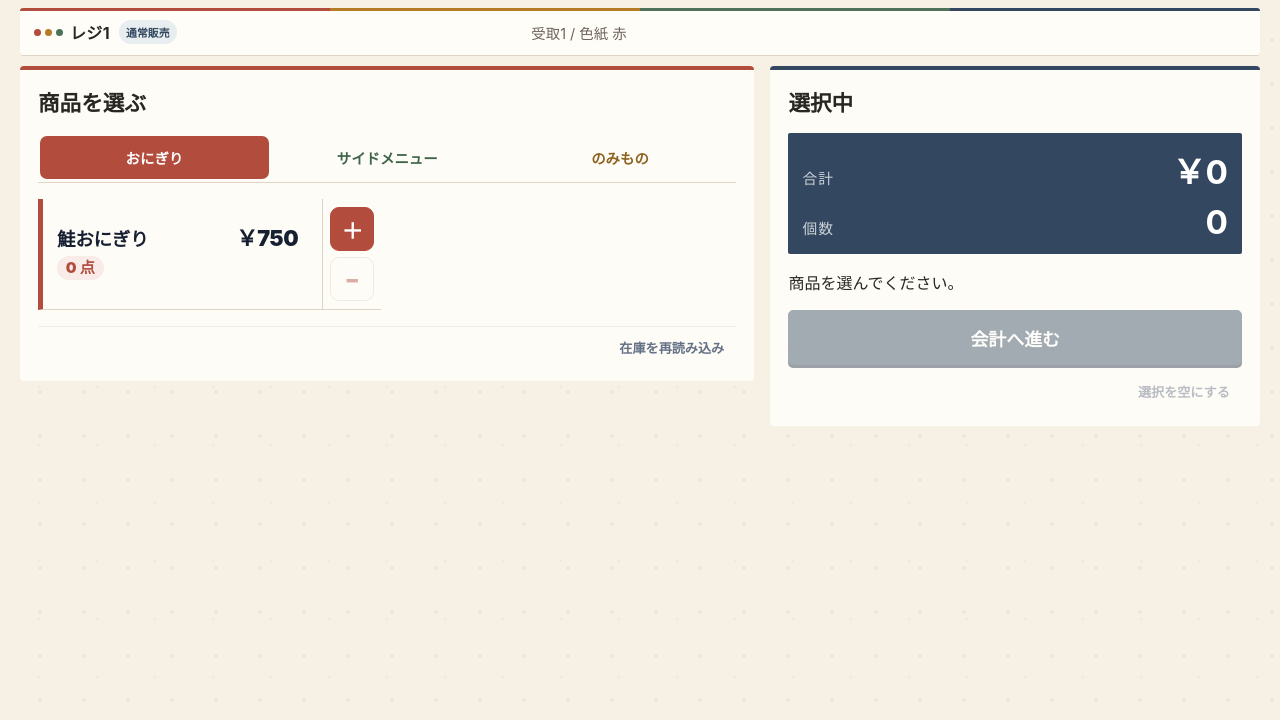
Scenario: RegisterPage › 預かり不足中は不足額を表示し、確定ボタンを無効にする
Expected: the text "鮭おにぎり" is shown, [57,229,148,250]
What coordinates should you click on to do the following:
click the button with aria-label "鮭おにぎり を 1 個追加する"
I would click on:
 (103, 239)
Its box is [43,199,312,309].
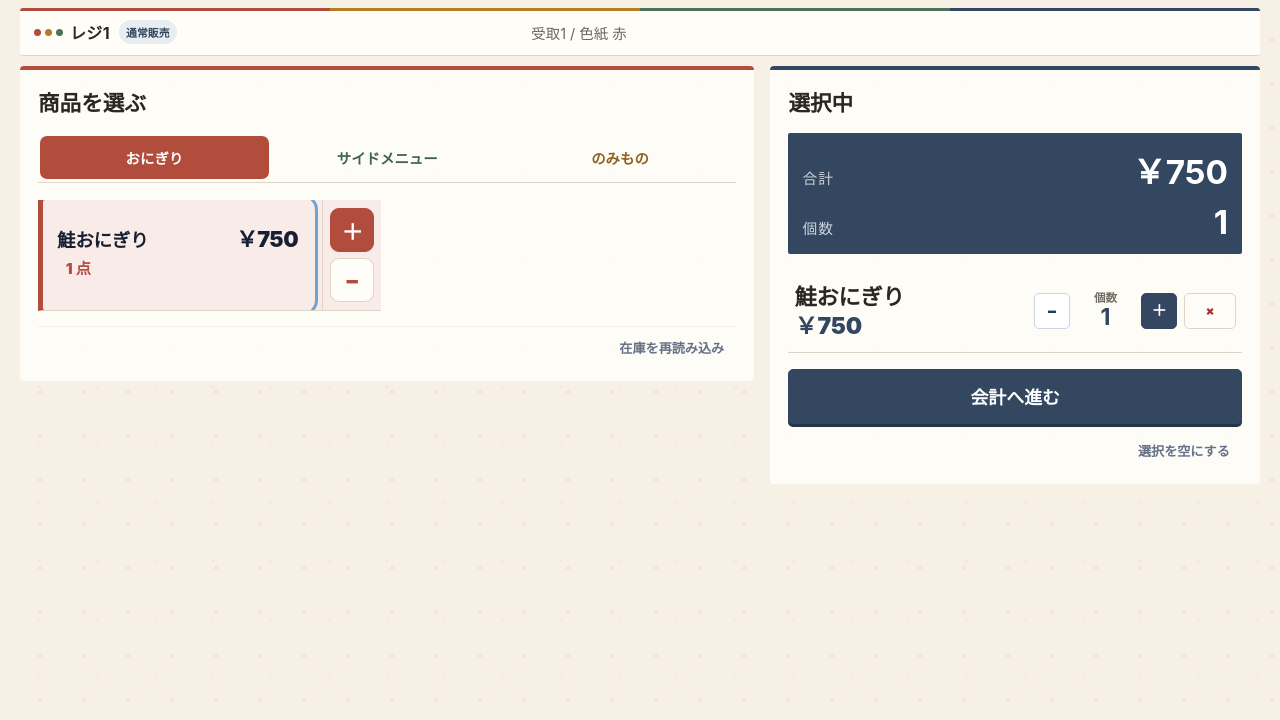
What coordinates should you click on to do the following:
click the button "会計へ進む"
I would click on:
 (1015, 396)
Its box is [788,369,1242,424].
(page scrolled)
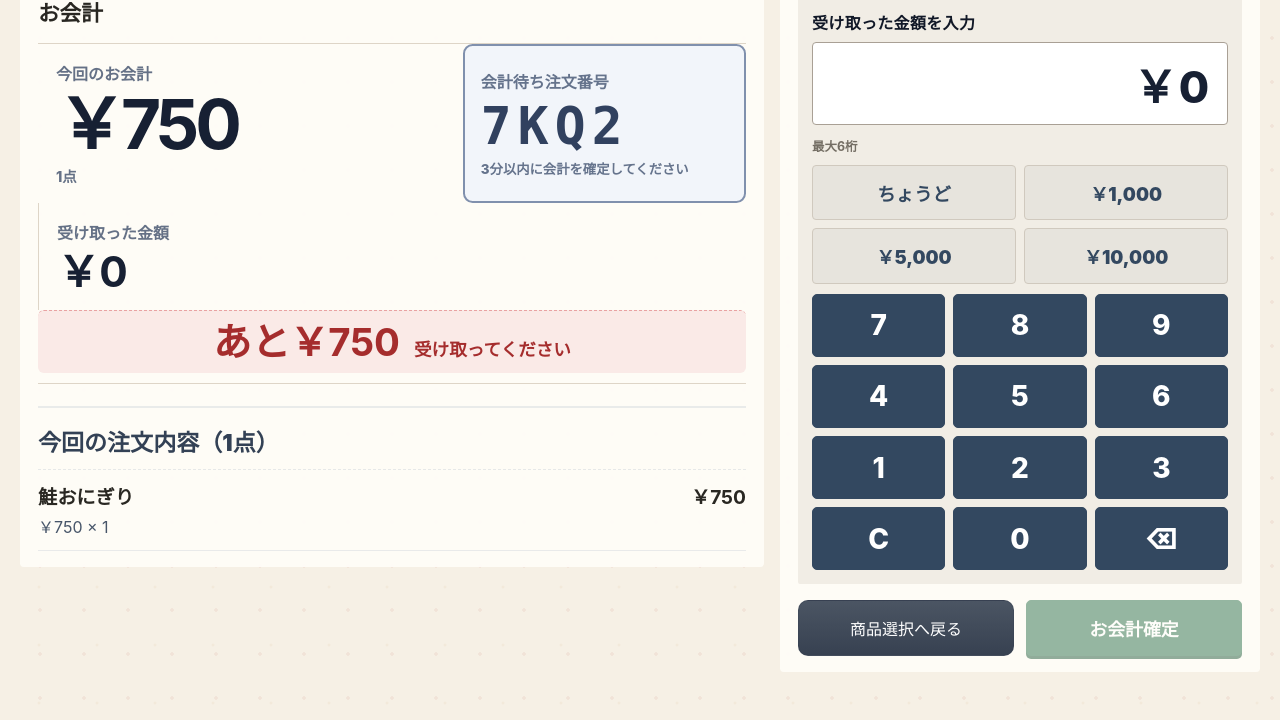
Expected: the text "今回の注文内容（1点）" is shown, [38,429,279,457]
Expected: the text "7KQ2" is shown, [481,96,629,156]
Expected: the text "あと￥750" is shown, [213,323,400,361]
